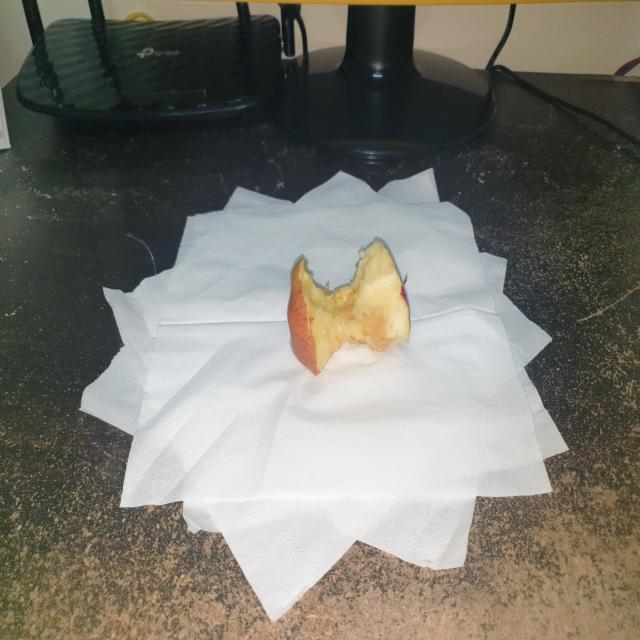apple: (282, 232, 419, 372)
